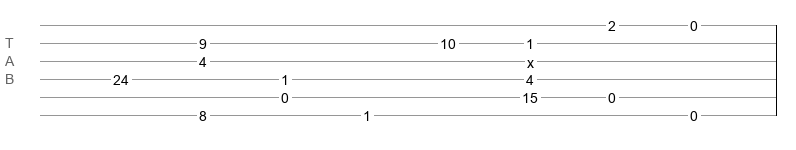0: (281, 90, 289, 100), (608, 90, 616, 100), (690, 108, 698, 118), (690, 18, 698, 28)
1: (281, 72, 289, 82), (363, 108, 371, 118), (526, 36, 534, 46)
10: (440, 36, 456, 46)
15: (522, 90, 538, 100)
2: (608, 18, 616, 28)
24: (113, 72, 129, 82)
4: (199, 54, 207, 64), (526, 72, 534, 82)
8: (199, 108, 207, 118)
9: (199, 36, 207, 46)
x: (527, 55, 534, 63)
